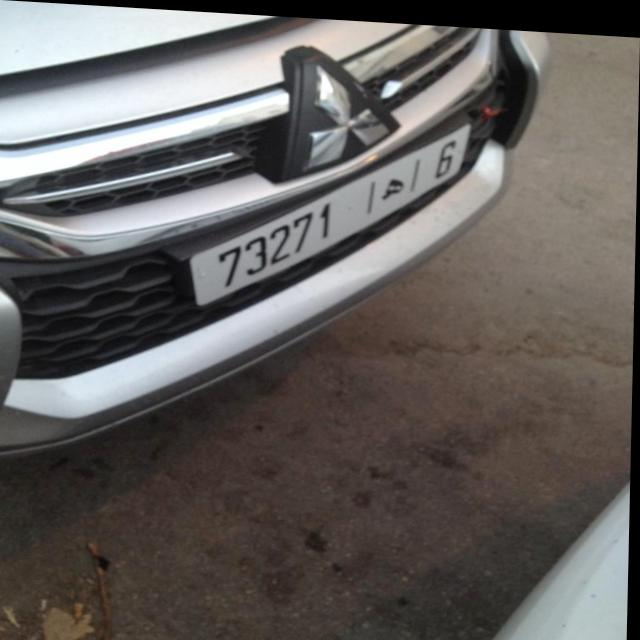License-Plate: (191, 120, 472, 302)
